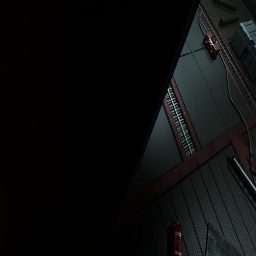FireExtinguisher ]: (173, 213, 182, 256)
FirstAidBox ,: (203, 32, 220, 59)
